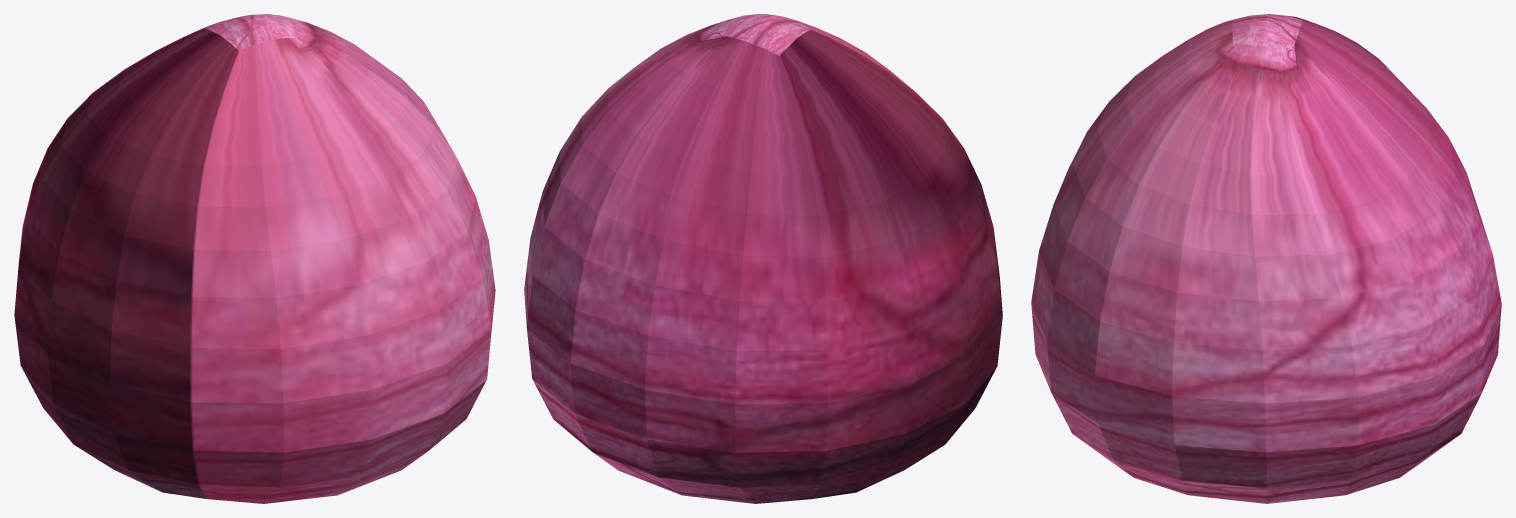
Rendered from homdang.fbx.
The picture shows the model from 3 angles, left to right: view 1: azimuth 30°, elevation 25°; view 2: azimuth 150°, elevation 25°; view 3: azimuth 270°, elevation 25°; orthographic projection.
Parts seen in each view (by area): view 1: Cube; view 2: Cube; view 3: Cube.
Boxes of the visible parts, x1,y1,x2,y2 form: Cube: (14, 14, 495, 503); Cube: (524, 14, 1002, 503); Cube: (1031, 14, 1501, 503).
Bounding box in the file's own units: 152 × 157 × 151.
1 material, 1 textured.
